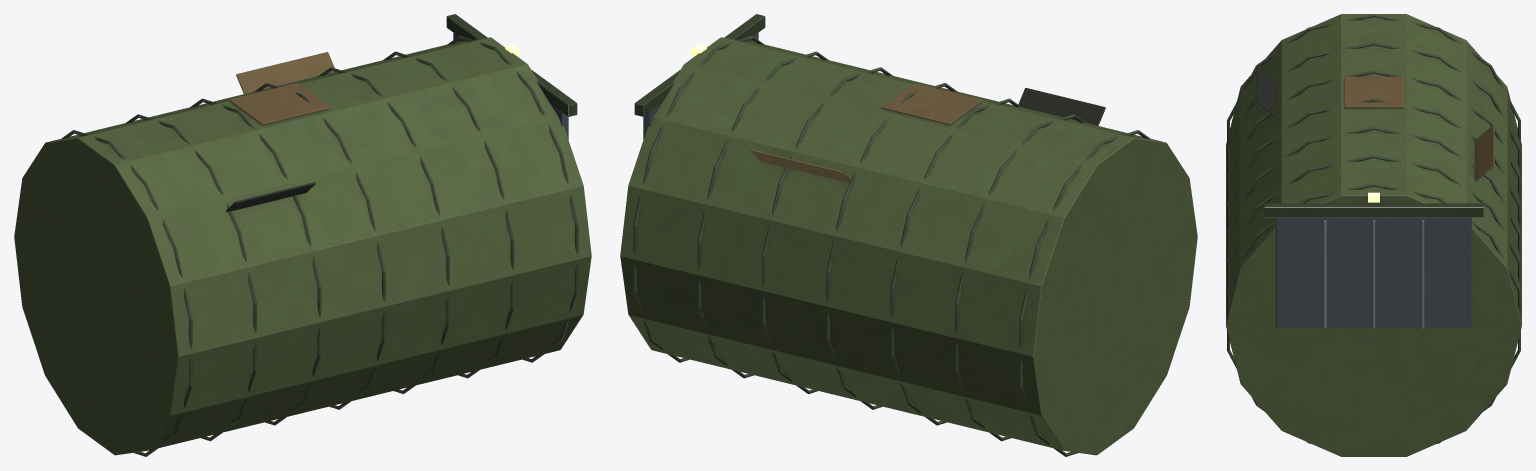
File: hangar_tex.glb
The picture shows the model from 3 angles, left to right: view 1: azimuth 30°, elevation 25°; view 2: azimuth 150°, elevation 25°; view 3: azimuth 270°, elevation 25°; orthographic projection. The views are drawn at different scales.
Visible parts, largest first — view 1: hangar; view 2: hangar; view 3: hangar.
Boxes of the visible parts, x1,y1,x2,y2 form: hangar: [14, 14, 591, 456]; hangar: [620, 14, 1197, 456]; hangar: [1226, 14, 1521, 456].
Size of the model in its own units: 18.32 by 12.63 by 12.4.
Materials: 7 (6 with a texture image).
